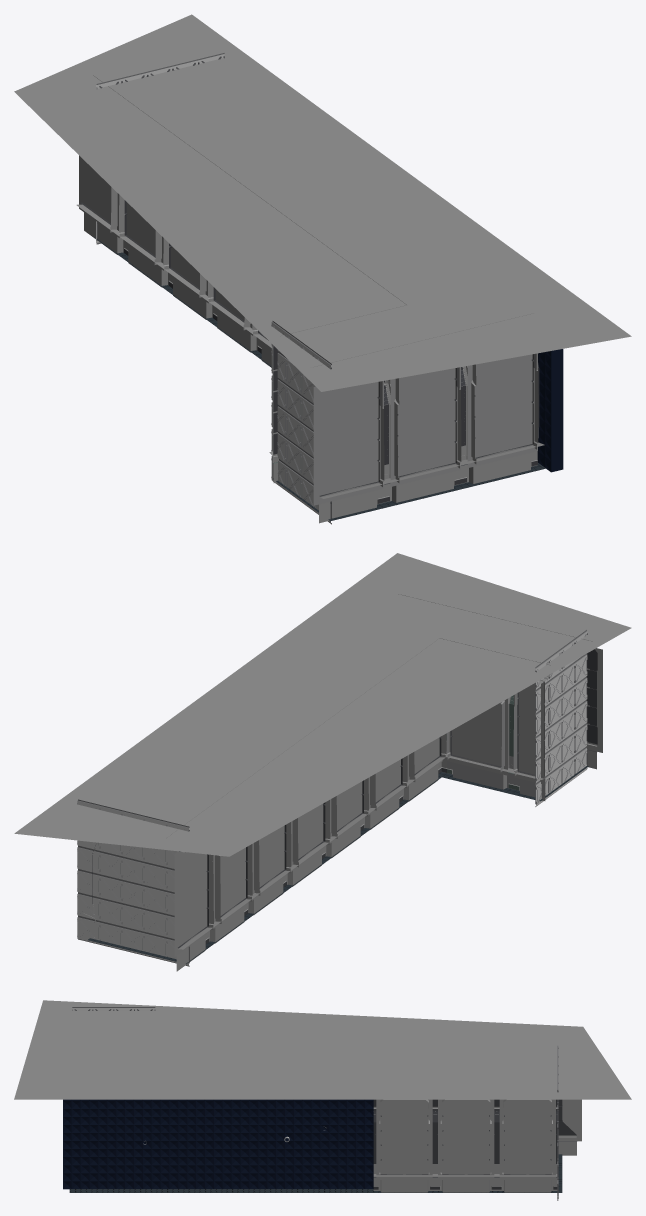
File: Tuotorial (1).fbx
The picture shows the model from 3 angles, top to bottom: view 1: azimuth 30°, elevation 25°; view 2: azimuth 150°, elevation 25°; view 3: azimuth 270°, elevation 25°; orthographic projection. The views are drawn at different scales.
Parts seen in each view (by area): view 1: Ceiling, Wall, WallXXX, UnrapWall, Floor, WallXXX.001; view 2: Ceiling, Wall, WallXXX.001, WallXXX, Floor; view 3: Ceiling, UnrapWall, Wall, Floor, WallXXX, WallXXX.001.
Boxes of the visible parts, x1,y1,x2,y2 form: Ceiling: (14, 14, 631, 391); Wall: (76, 75, 544, 523); WallXXX: (271, 321, 331, 524); UnrapWall: (537, 349, 563, 472); Floor: (93, 236, 545, 521); WallXXX.001: (96, 53, 224, 244); Ceiling: (14, 553, 631, 856); Wall: (84, 594, 602, 971); WallXXX.001: (77, 799, 189, 966); WallXXX: (535, 630, 587, 806); Floor: (88, 765, 588, 964); Ceiling: (14, 1000, 631, 1099); UnrapWall: (63, 1099, 373, 1189); Wall: (373, 1099, 581, 1192); Floor: (69, 1154, 562, 1192); WallXXX: (72, 1007, 155, 1010); WallXXX.001: (557, 1045, 558, 1200).
Size of the model in its own units: 3589 by 1901 by 9436.
